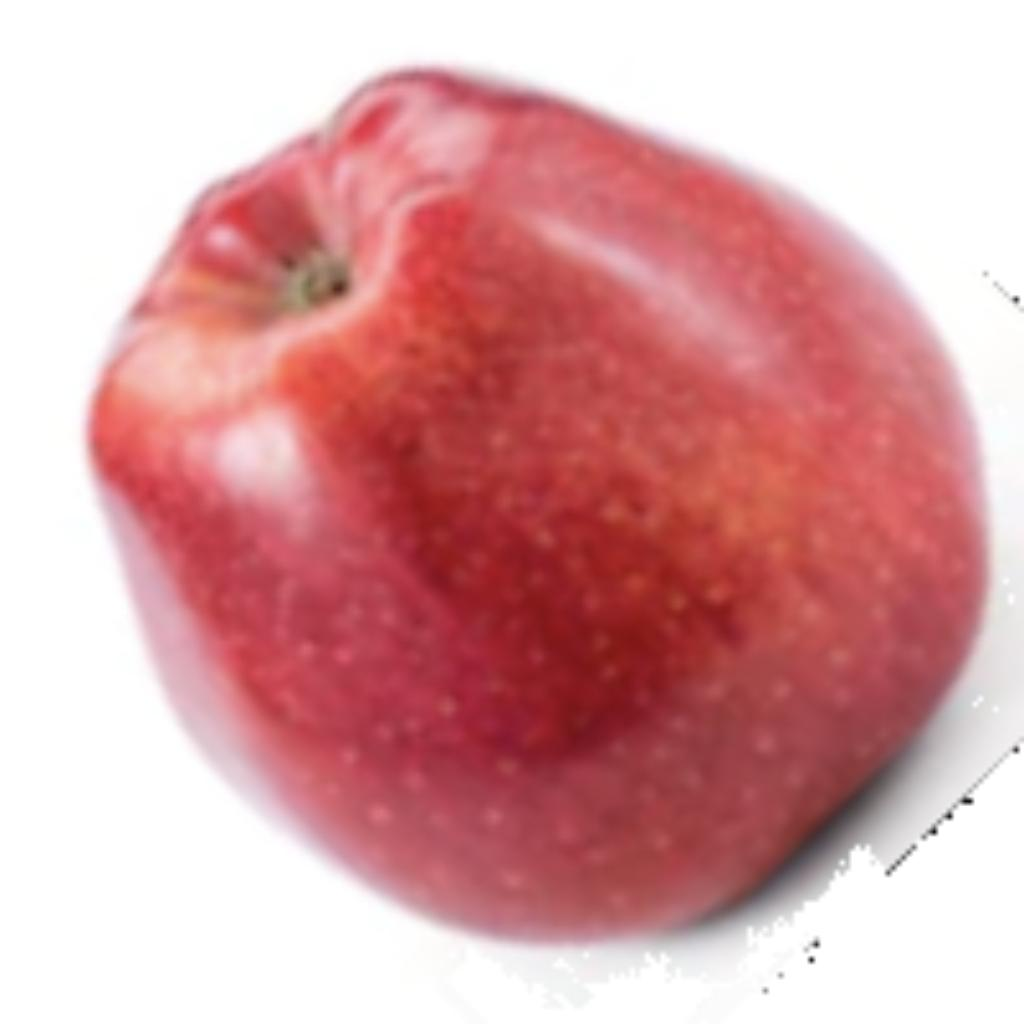apple: (72, 51, 1017, 1009)
